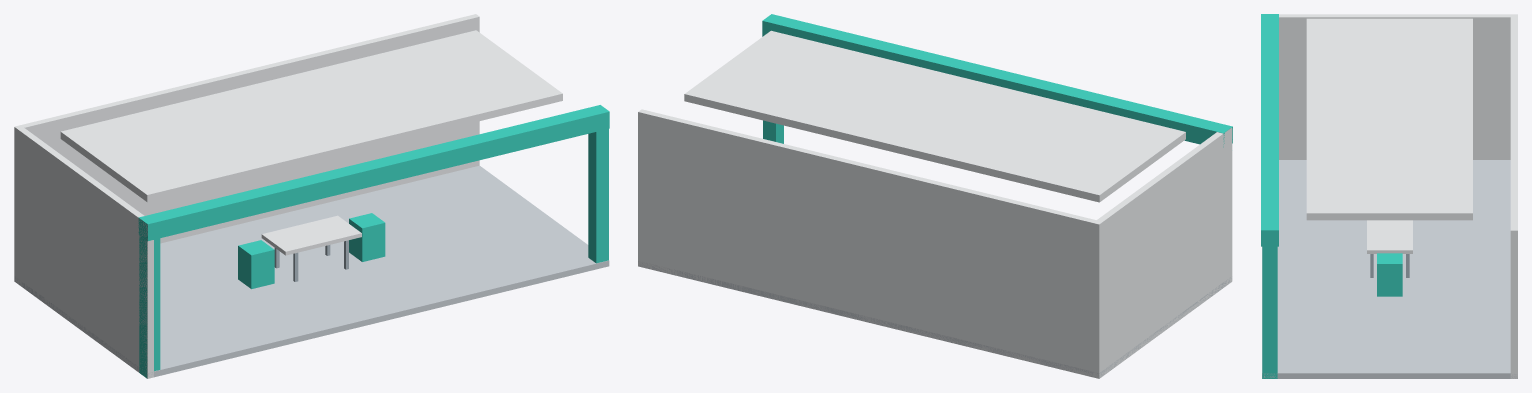
3 views of the same model, side by side, from view 1: azimuth 30°, elevation 25°; view 2: azimuth 150°, elevation 25°; view 3: azimuth 270°, elevation 25° (orthographic). The views are drawn at different scales.
Parts seen in each view (by area): view 1: Exhibition Booth Concept; view 2: Exhibition Booth Concept; view 3: Exhibition Booth Concept.
Part boxes in pixels (x1,y1,x2,y2): Exhibition Booth Concept: (14,14,609,378); Exhibition Booth Concept: (638,14,1232,378); Exhibition Booth Concept: (1261,14,1517,378).
Bounding box in the file's own units: 10 × 3.34 × 5.02.
